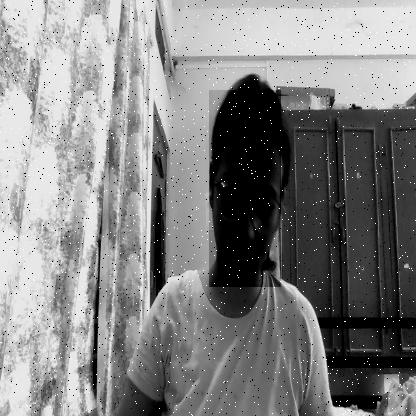Normal: (209, 90, 281, 287)
